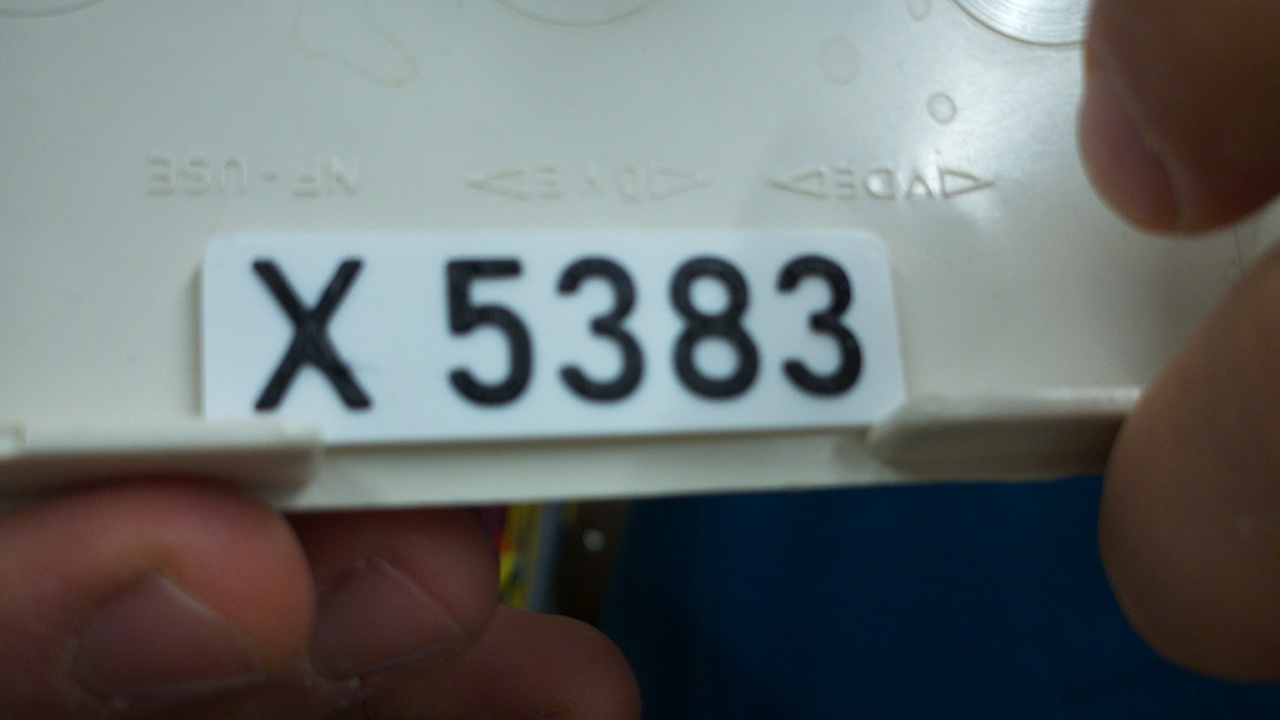license_plate: (195, 221, 908, 452)
